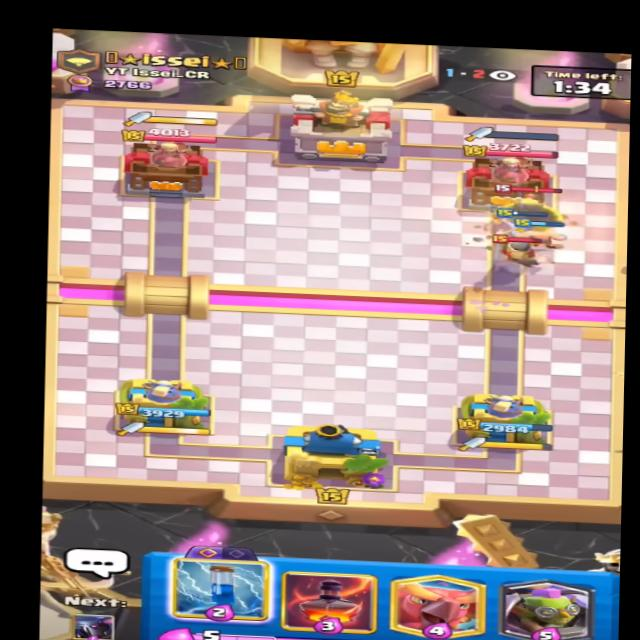goblin-demolisher: (491, 183, 569, 232)
knight: (484, 229, 555, 275)
